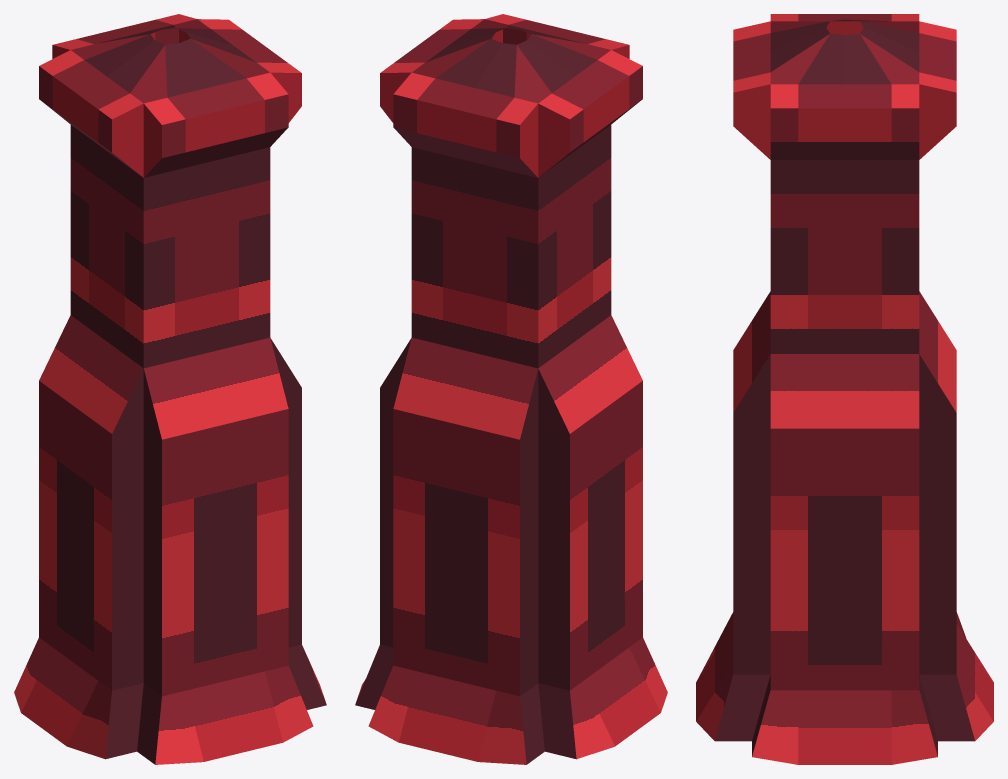
Rendered from screwdriver_handle.fbx.
3 renders of one model, left to right at view 1: azimuth 30°, elevation 25°; view 2: azimuth 150°, elevation 25°; view 3: azimuth 270°, elevation 25°, orthographic.
Visible parts, largest first — view 1: Handle; view 2: Handle; view 3: Handle.
Part boxes in pixels (box(x1,y1,x2,y2)): Handle: box(14, 14, 326, 764); Handle: box(355, 14, 667, 764); Handle: box(696, 14, 993, 764).
Size of the model in its own units: 50 by 125 by 50.
1 material, 1 textured.
